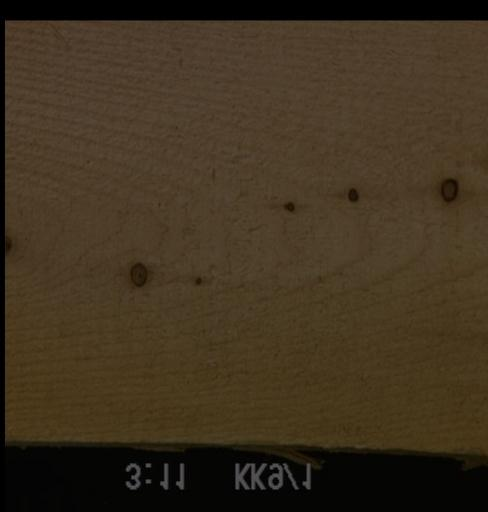dry_knot: (127, 262, 147, 287), (439, 177, 457, 202)
small_knot: (345, 187, 358, 203), (283, 200, 294, 213), (192, 276, 201, 287)
sound_knot: (4, 233, 10, 255)
